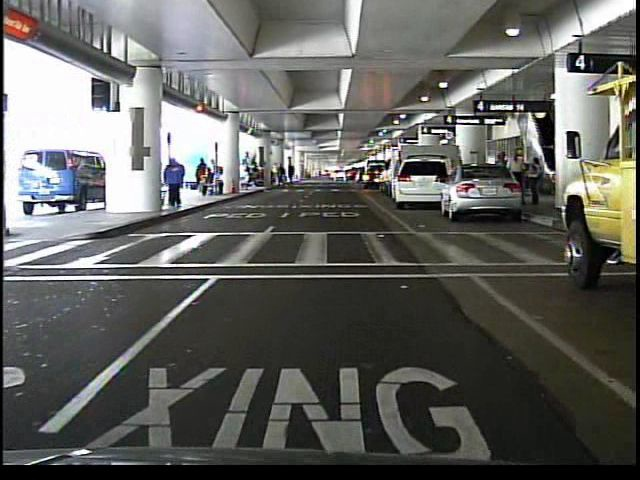person: (162, 153, 189, 209)
